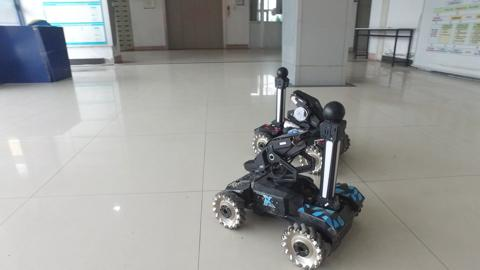chariot: (209, 95, 365, 270), (243, 66, 354, 174)
